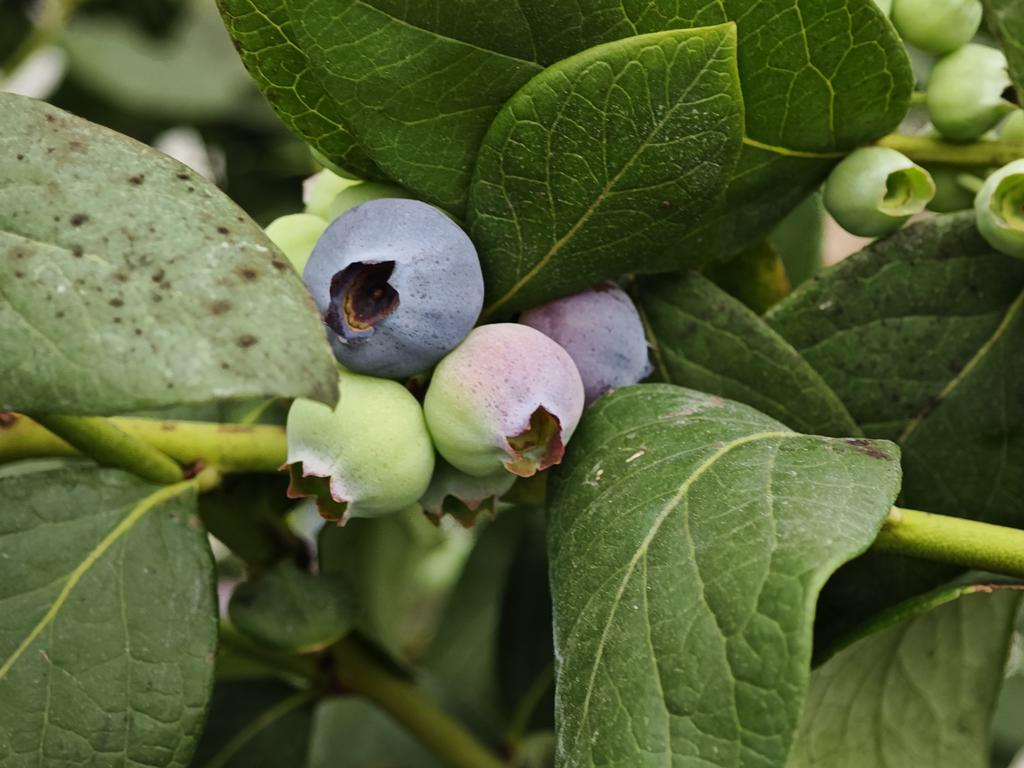RipeBlueBerry: (299, 194, 489, 378)
Semi-RipeBlueBerry: (422, 321, 585, 479)
UnripeBlueBerry: (282, 375, 435, 529)
